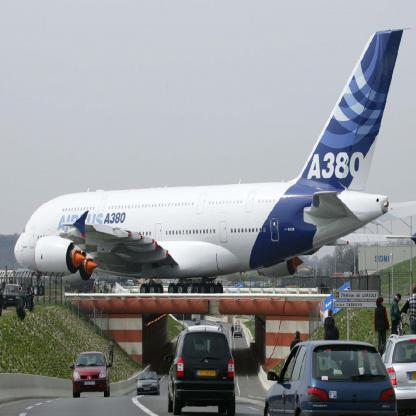CIV_Plane: (12, 22, 410, 303)
